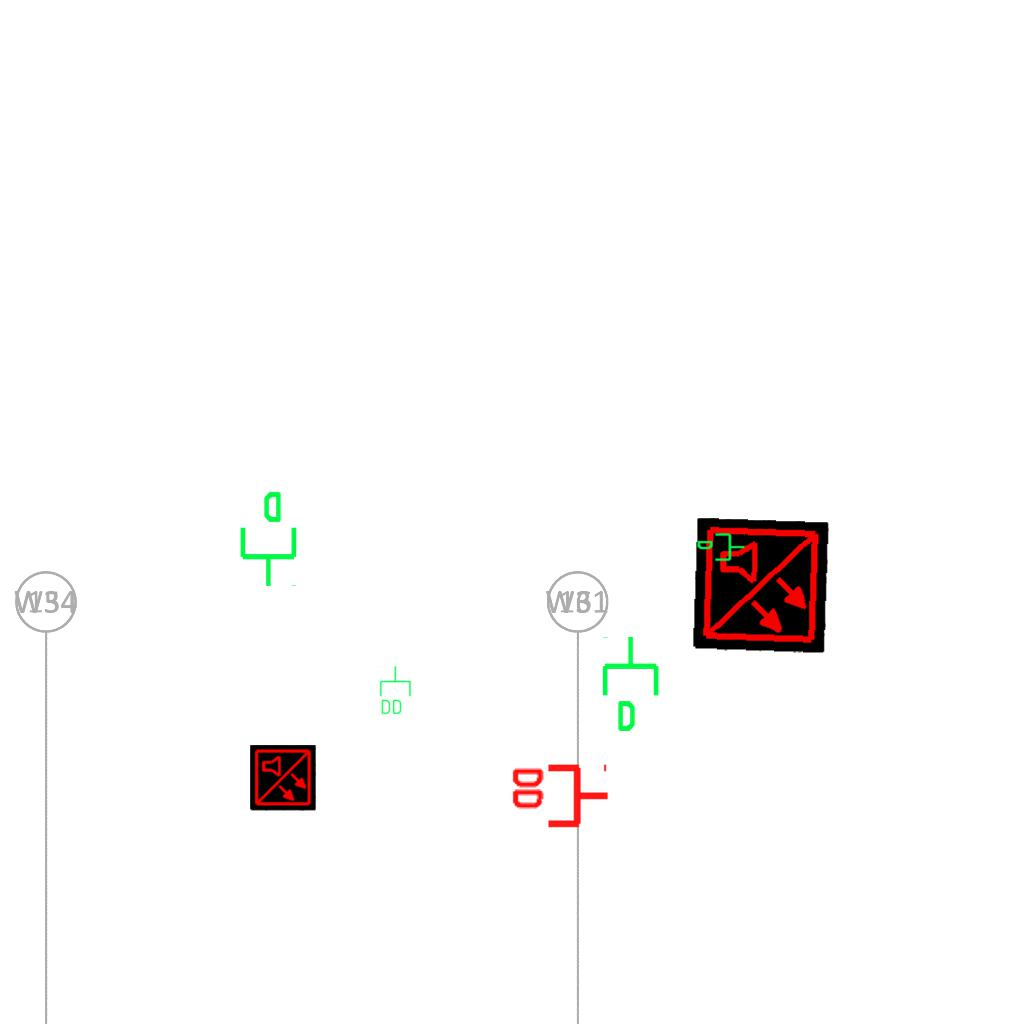Datenanschluss_einfach: (232, 489, 301, 589), (598, 634, 667, 734), (696, 531, 746, 565)
Datenanschluss_zweifach: (508, 763, 611, 832), (378, 665, 412, 716)
OKW_Multisensormelder_(Kombination_optischer_Rauch-Kahlenmonoxid_Waerme-Melder): (692, 517, 830, 655), (250, 745, 316, 811)
